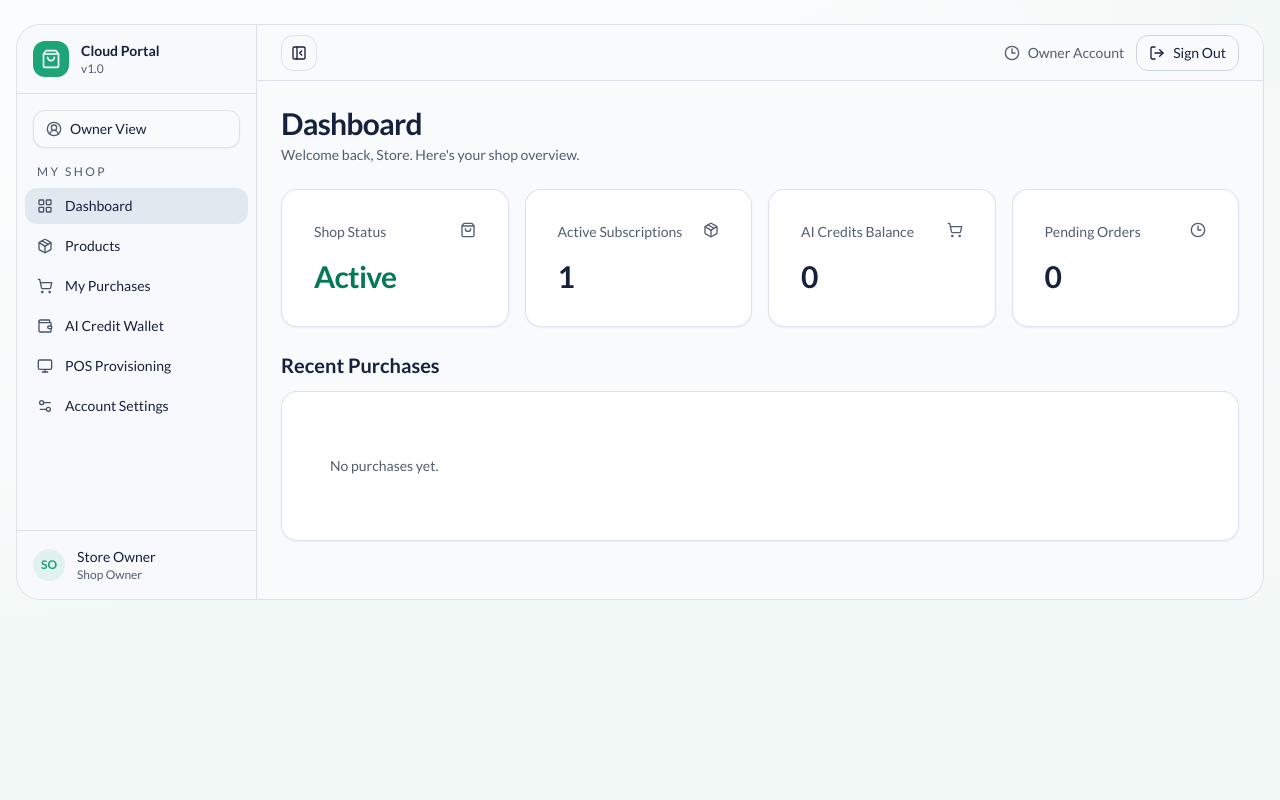
Account page credentials-only commerce flow › creates purchase request as owner without device dependency
Click the button "Products": (136, 246) [25,228,248,264]
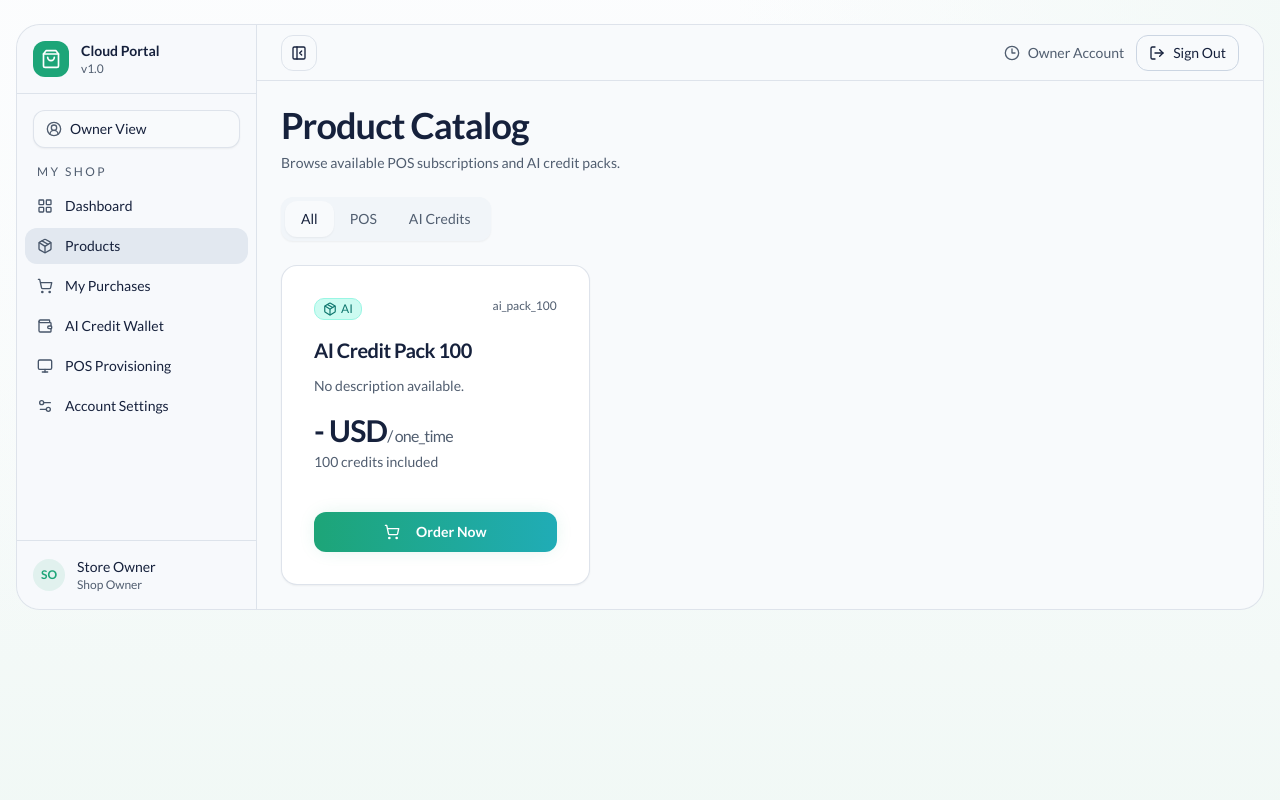
Result: the button "Order Now" is shown
Click the button "Order Now": (435, 532) [314,512,557,552]
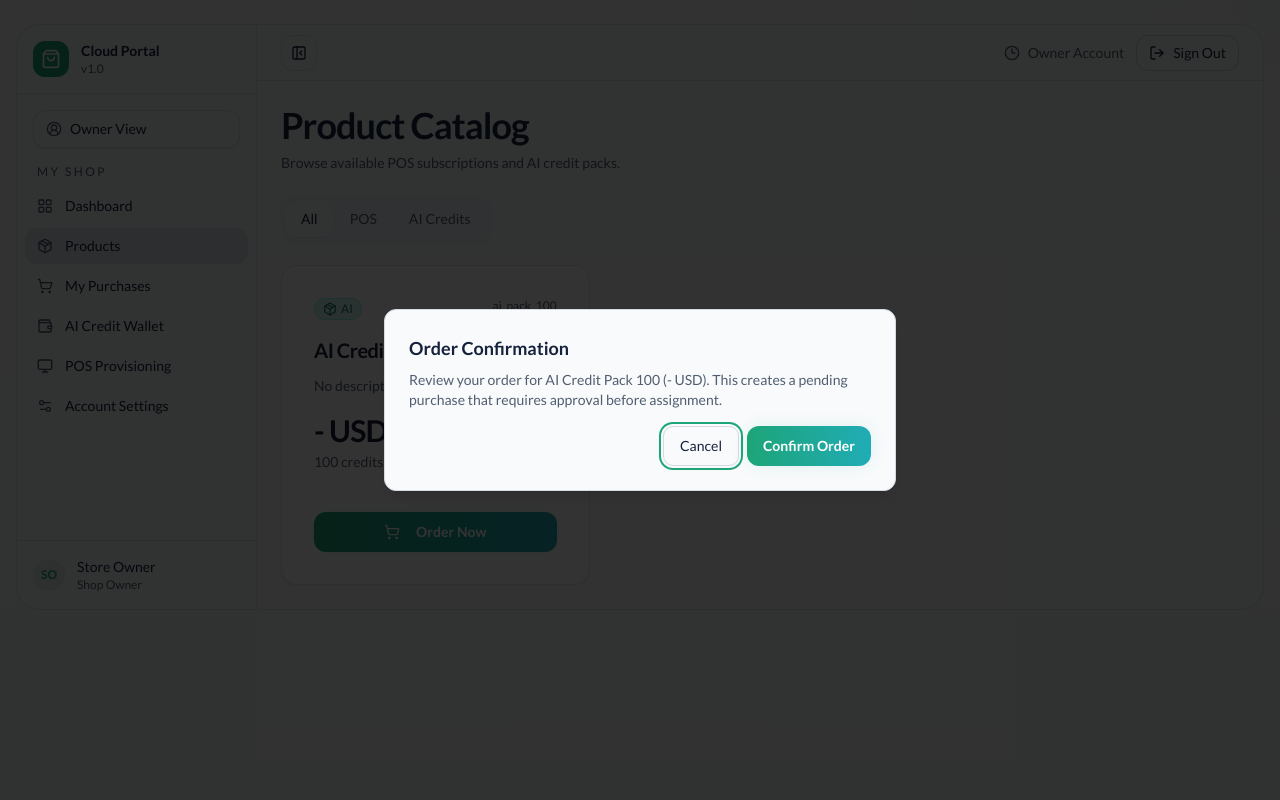
Result: the button "Confirm Order" is shown
Click the button "Confirm Order": (809, 446) [747,426,871,466]
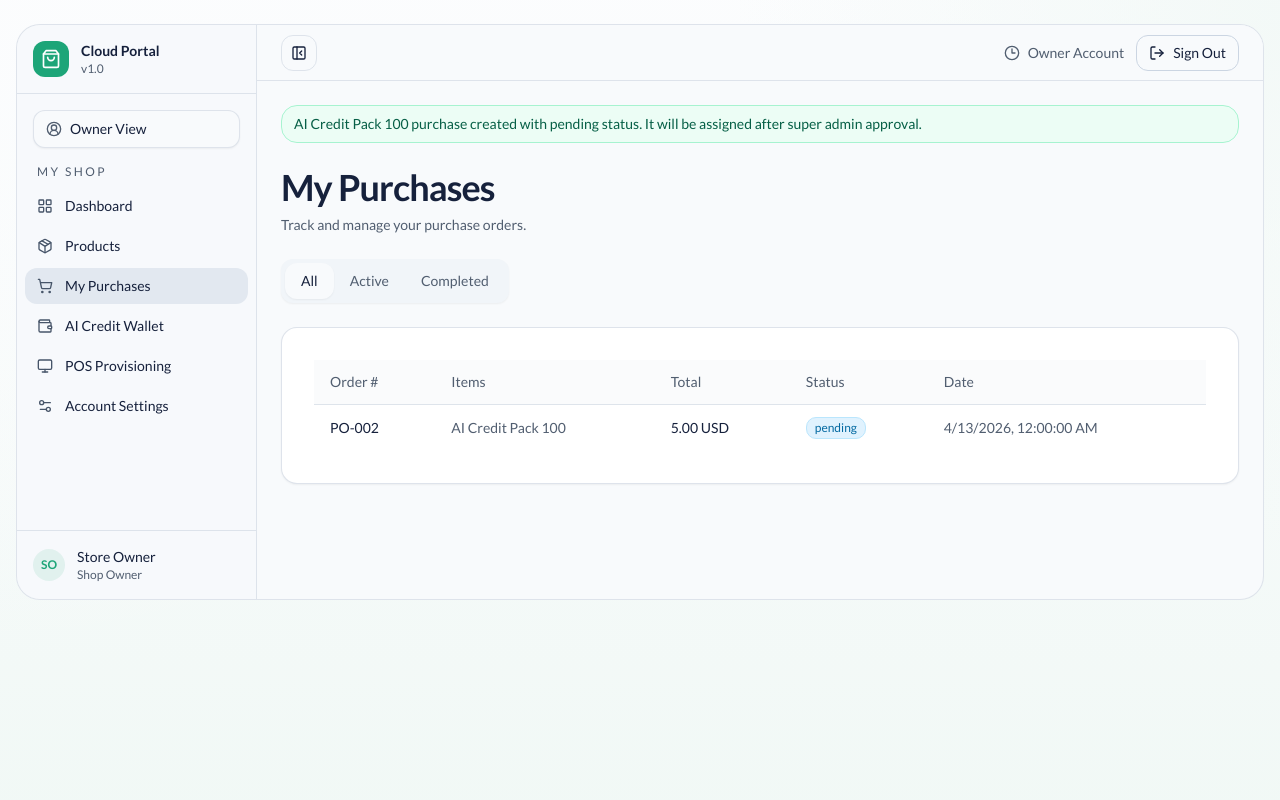
Result: the text "PO-002" is shown at [314,404,435,451]
